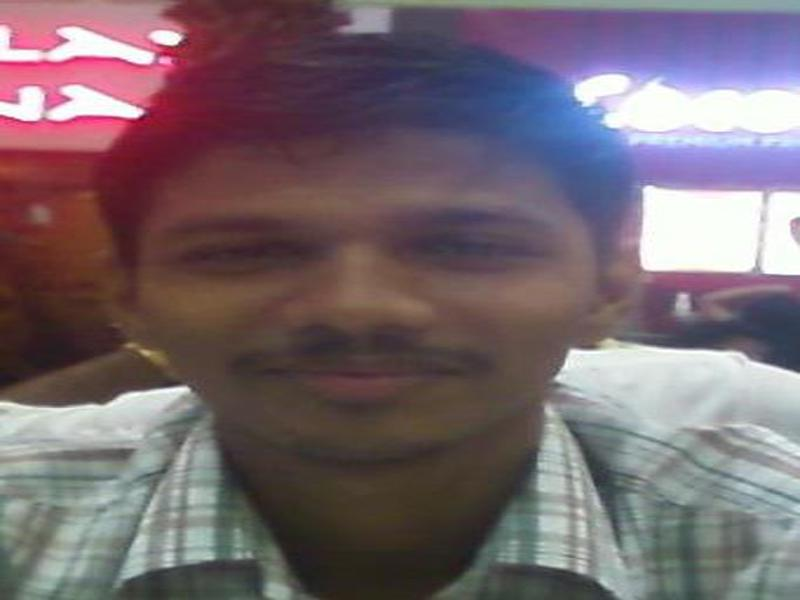without_mask: (131, 123, 595, 472)
